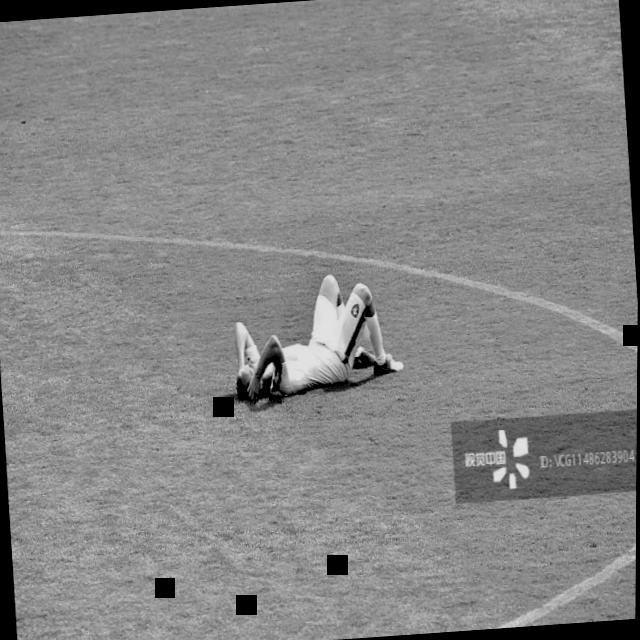Fall-Detected: (215, 252, 408, 414)
